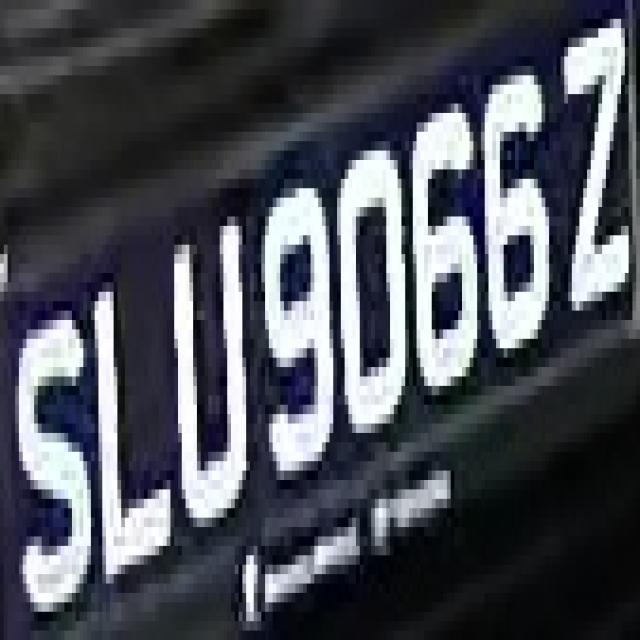0: (322, 104, 413, 461)
6: (469, 38, 553, 395), (401, 75, 485, 405)
9: (242, 170, 341, 508)
L: (87, 254, 182, 574)
S: (7, 264, 91, 602)
U: (170, 207, 258, 555)
Z: (546, 28, 632, 330)
